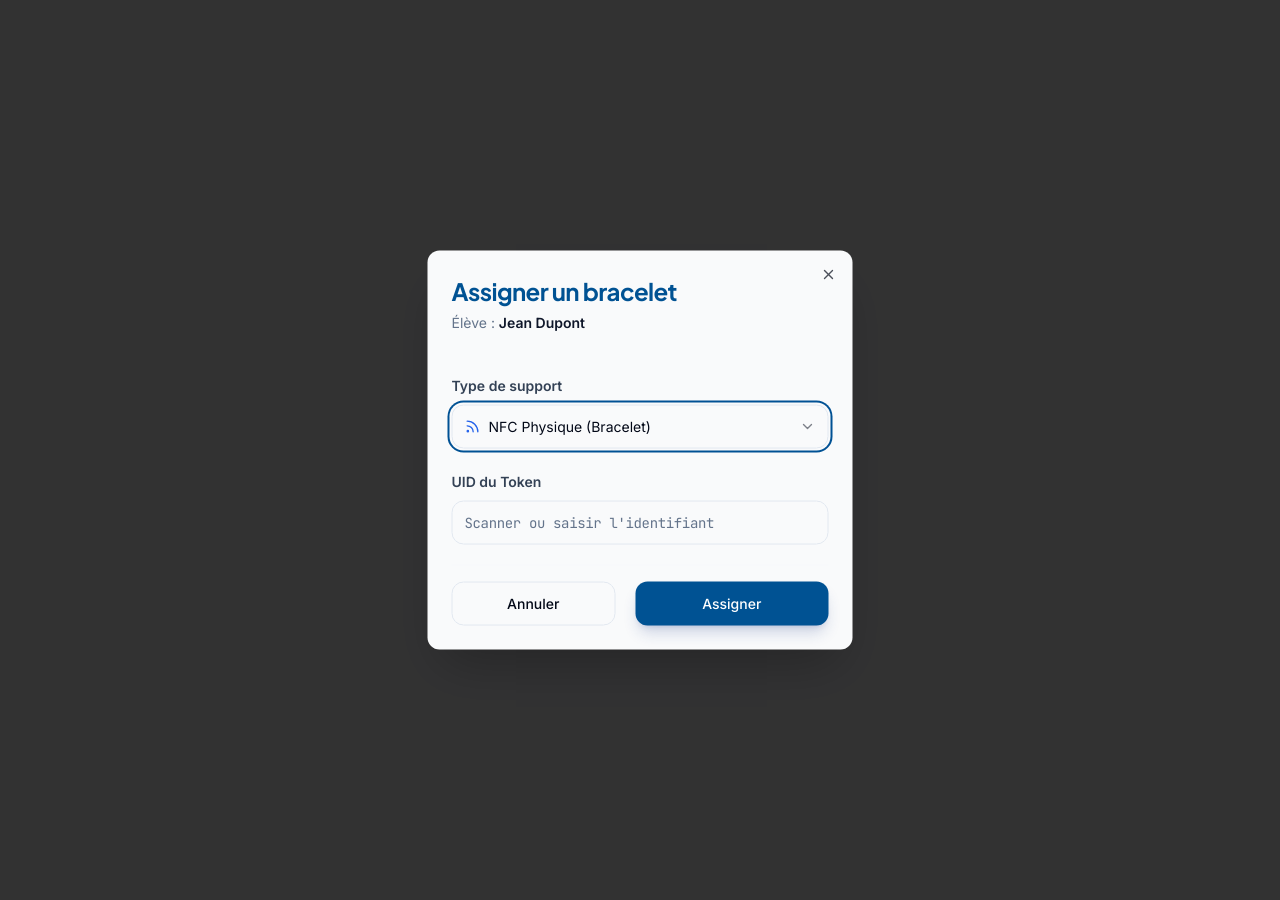
Test: AssignTokenDialog › shows server error on assignment failure
The image size is (1280, 900).
Step 1. Type "NFC-TEST" into the field with placeholder "Scanner ou saisir l'identifiant" → (640, 522), box [452,500,828,544]
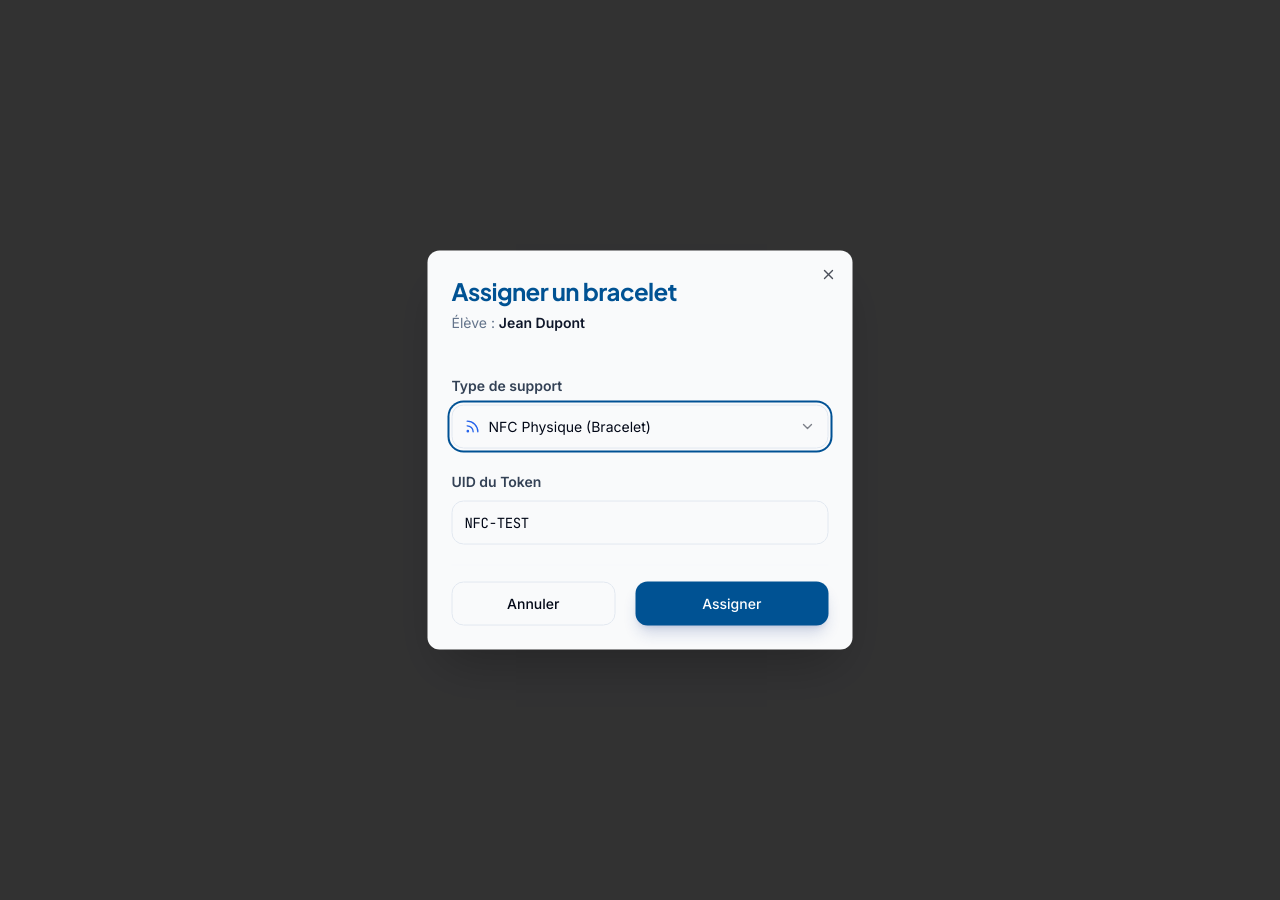
Step 2. Click the button "Assigner" → (732, 604), box [635,582,828,626]
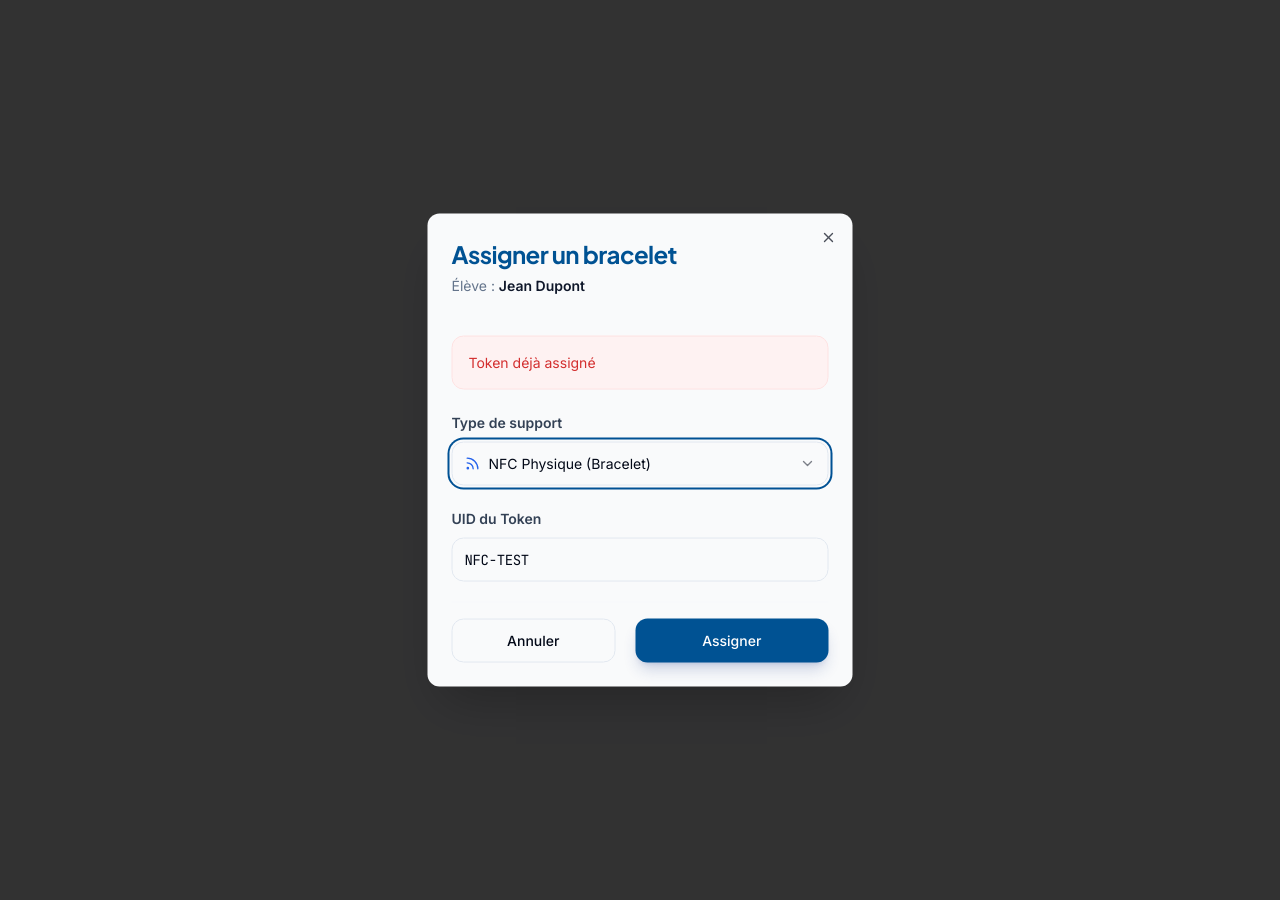
Check: the text "Token déjà assigné" is shown, box [452,336,828,390]
